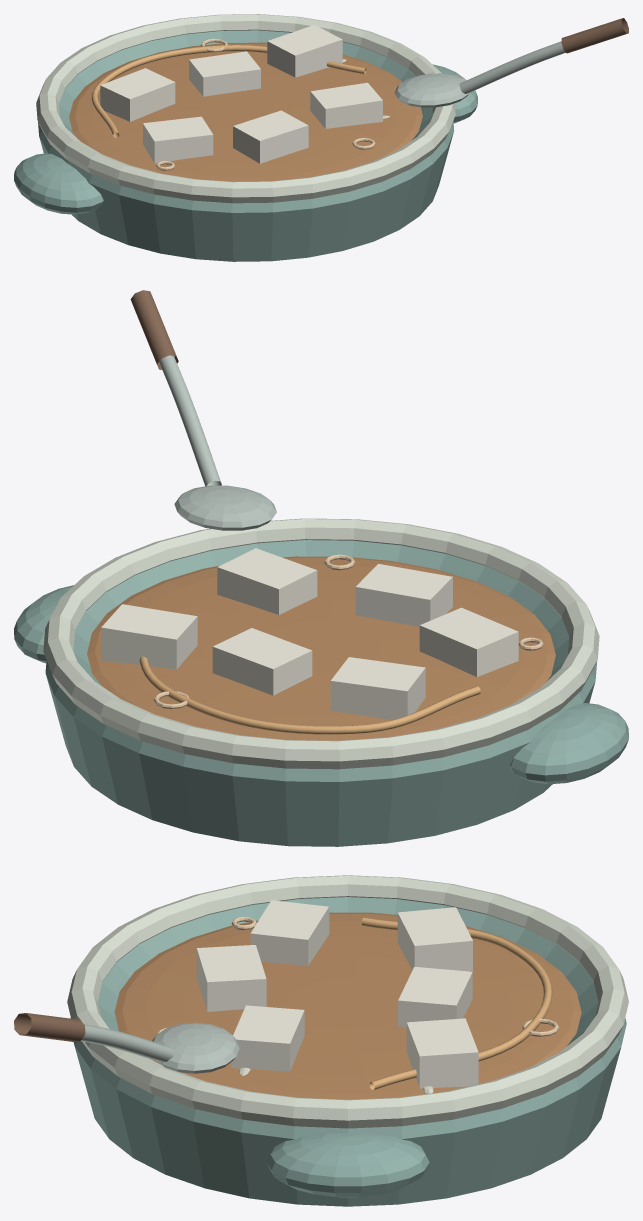
Rendered from simmering_tofu_basin.glb.
3 views of the same model, one above another, from view 1: azimuth 30°, elevation 25°; view 2: azimuth 150°, elevation 25°; view 3: azimuth 270°, elevation 25° (orthographic). The views are drawn at different scales.
Parts seen in each view (by area): view 1: wide_shallow_earthen_basin, ginger_broth_surface, basin_thick_celadon_lip, basin_ear_-1, soft_tofu_curd_1, soft_tofu_curd_3, soft_tofu_curd_5, soft_tofu_curd_0, soft_tofu_curd_2, soft_tofu_curd_4, ladle_cup, ginger_syrup_ribbon (+3 smaller); view 2: wide_shallow_earthen_basin, ginger_broth_surface, basin_thick_celadon_lip, basin_ear_-1, soft_tofu_curd_5, soft_tofu_curd_3, soft_tofu_curd_0, soft_tofu_curd_1, soft_tofu_curd_2, soft_tofu_curd_4, ladle_cup, ginger_syrup_ribbon (+3 smaller); view 3: wide_shallow_earthen_basin, ginger_broth_surface, basin_thick_celadon_lip, basin_ear_1, soft_tofu_curd_5, soft_tofu_curd_1, soft_tofu_curd_3, soft_tofu_curd_0, soft_tofu_curd_2, soft_tofu_curd_4, ladle_cup, ginger_syrup_ribbon (+2 smaller).
Boxes of the visible parts, bbox=[...] form: wide_shallow_earthen_basin: bbox=[38, 30, 454, 261]; ginger_broth_surface: bbox=[69, 42, 422, 181]; basin_thick_celadon_lip: bbox=[36, 14, 455, 203]; basin_ear_-1: bbox=[14, 153, 103, 214]; soft_tofu_curd_1: bbox=[233, 110, 308, 163]; soft_tofu_curd_3: bbox=[100, 68, 175, 121]; soft_tofu_curd_5: bbox=[267, 25, 342, 77]; soft_tofu_curd_0: bbox=[143, 116, 213, 163]; soft_tofu_curd_2: bbox=[310, 82, 382, 128]; soft_tofu_curd_4: bbox=[189, 51, 260, 96]; ladle_cup: bbox=[394, 73, 469, 107]; ginger_syrup_ribbon: bbox=[91, 45, 366, 137]; wide_shallow_earthen_basin: bbox=[45, 540, 597, 846]; ginger_broth_surface: bbox=[87, 556, 555, 740]; basin_thick_celadon_lip: bbox=[43, 518, 599, 769]; basin_ear_-1: bbox=[510, 703, 628, 784]; soft_tofu_curd_5: bbox=[101, 604, 197, 669]; soft_tofu_curd_3: bbox=[330, 657, 425, 720]; soft_tofu_curd_0: bbox=[419, 607, 518, 676]; soft_tofu_curd_1: bbox=[355, 564, 452, 626]; soft_tofu_curd_2: bbox=[217, 548, 317, 614]; soft_tofu_curd_4: bbox=[212, 628, 312, 695]; ladle_cup: bbox=[174, 485, 276, 530]; ginger_syrup_ribbon: bbox=[139, 656, 480, 734]; wide_shallow_earthen_basin: bbox=[70, 897, 626, 1206]; ginger_broth_surface: bbox=[114, 912, 581, 1099]; basin_thick_celadon_lip: bbox=[67, 875, 628, 1128]; basin_ear_1: bbox=[266, 1133, 429, 1197]; soft_tofu_curd_5: bbox=[406, 1018, 478, 1088]; soft_tofu_curd_1: bbox=[196, 945, 266, 1011]; soft_tofu_curd_3: bbox=[397, 907, 472, 971]; soft_tofu_curd_0: bbox=[250, 900, 329, 965]; soft_tofu_curd_2: bbox=[231, 1005, 304, 1071]; soft_tofu_curd_4: bbox=[398, 967, 472, 1027]; ladle_cup: bbox=[152, 1022, 239, 1073]; ginger_syrup_ribbon: bbox=[361, 917, 552, 1089].
Bounding box in the file's own units: 1.03 × 0.4136 × 0.8451.
